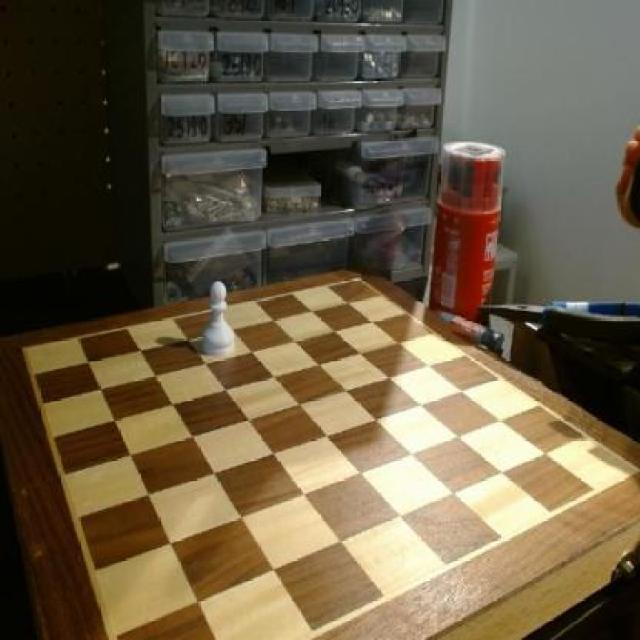white-knight: (198, 282, 240, 356)
